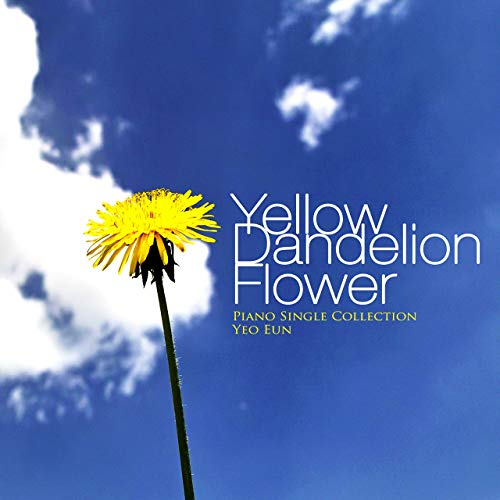dandelion: (67, 176, 225, 260)
